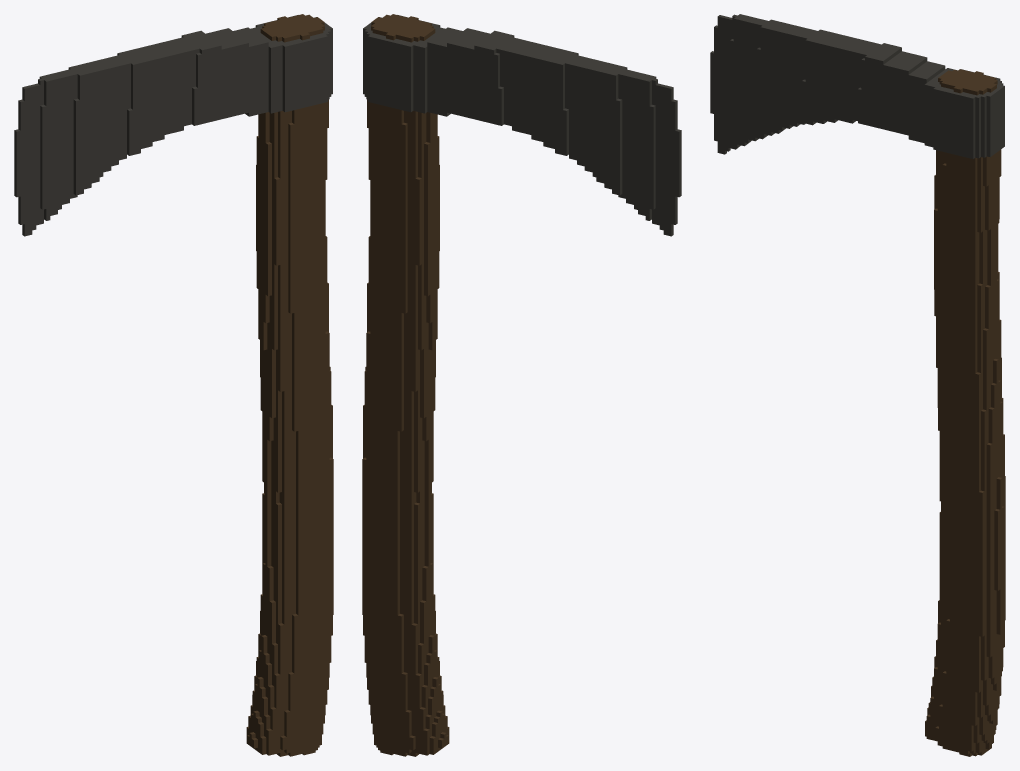
Rendered from Axe_Throwing_Large.obj.
3 renders of one model, left to right at view 1: azimuth 30°, elevation 25°; view 2: azimuth 150°, elevation 25°; view 3: azimuth 330°, elevation 25°, orthographic. The views are drawn at different scales.
Size of the model in its own units: 8 by 17.8 by 1.3.
1 material, 1 textured.
